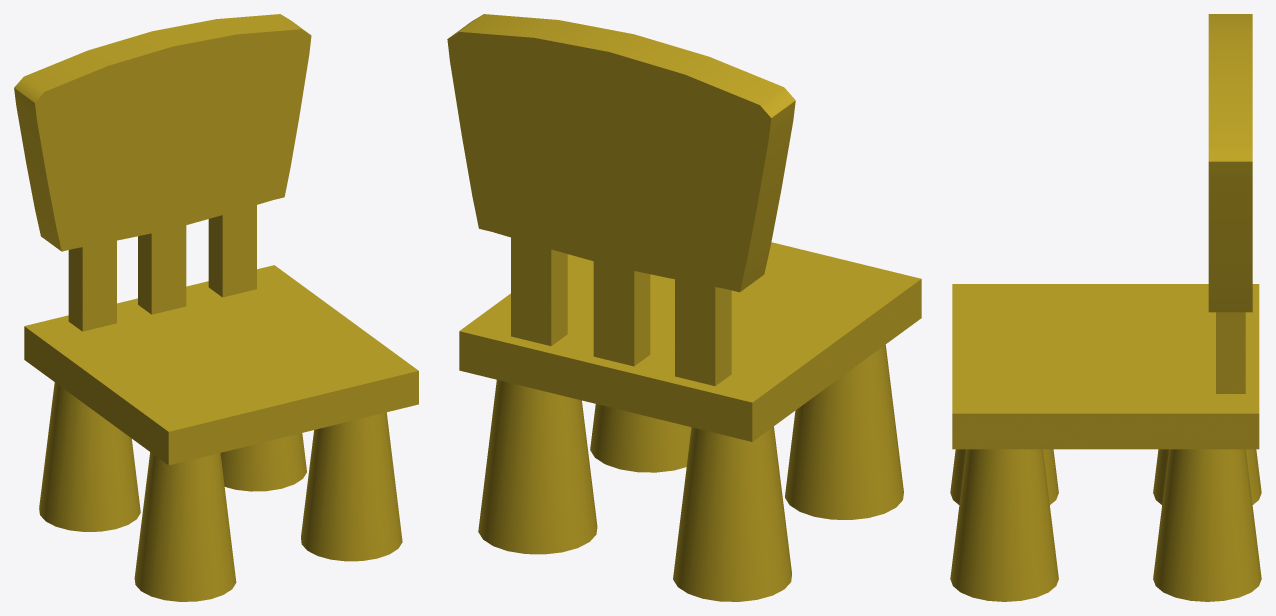
Rendered from Chair_Yellow.glb.
3 views of the same model, side by side, from view 1: azimuth 30°, elevation 25°; view 2: azimuth 150°, elevation 25°; view 3: azimuth 270°, elevation 25° (orthographic). The views are drawn at different scales.
Visible parts, largest first — view 1: chairHIGH; view 2: chairHIGH; view 3: chairHIGH.
Part boxes in pixels (x1,y1,x2,y2): chairHIGH: (14,14,418,601); chairHIGH: (447,14,921,601); chairHIGH: (950,14,1261,601).
Bounding box in the file's own units: 2.54 × 3.89 × 2.33.
Materials: 1 (1 with a texture image).
